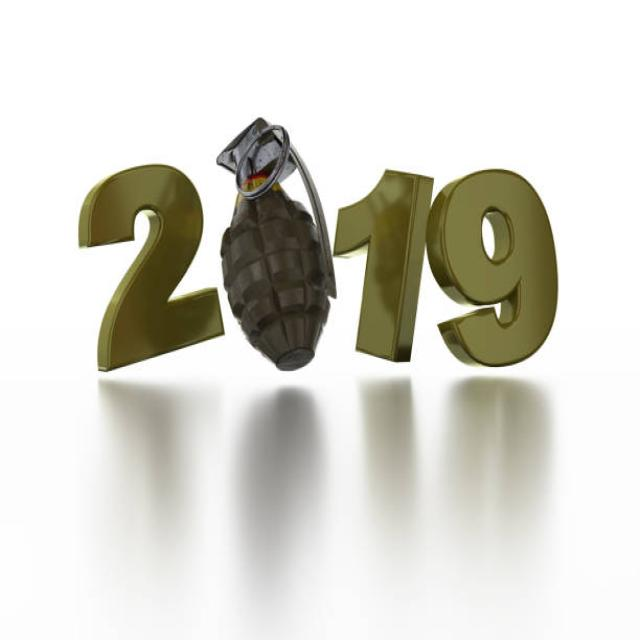grenade: (216, 116, 343, 377)
